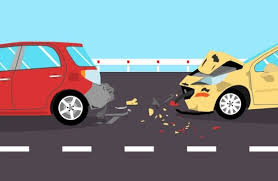accident: (8, 36, 272, 147)
